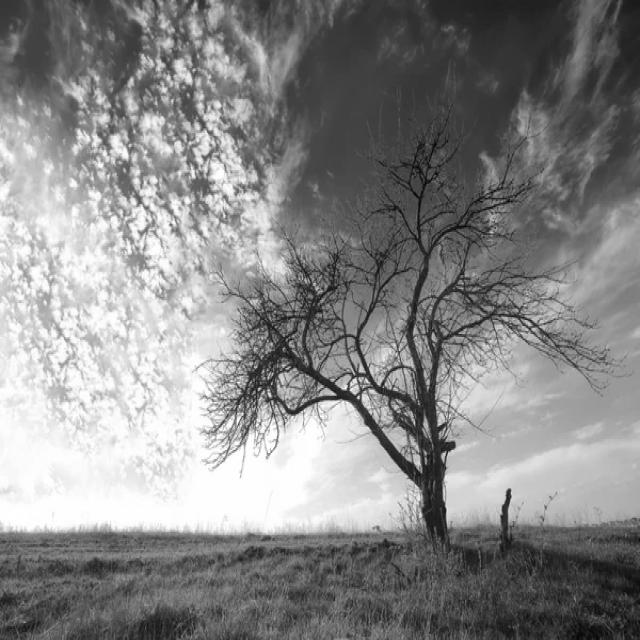Tree: (203, 96, 624, 548)
